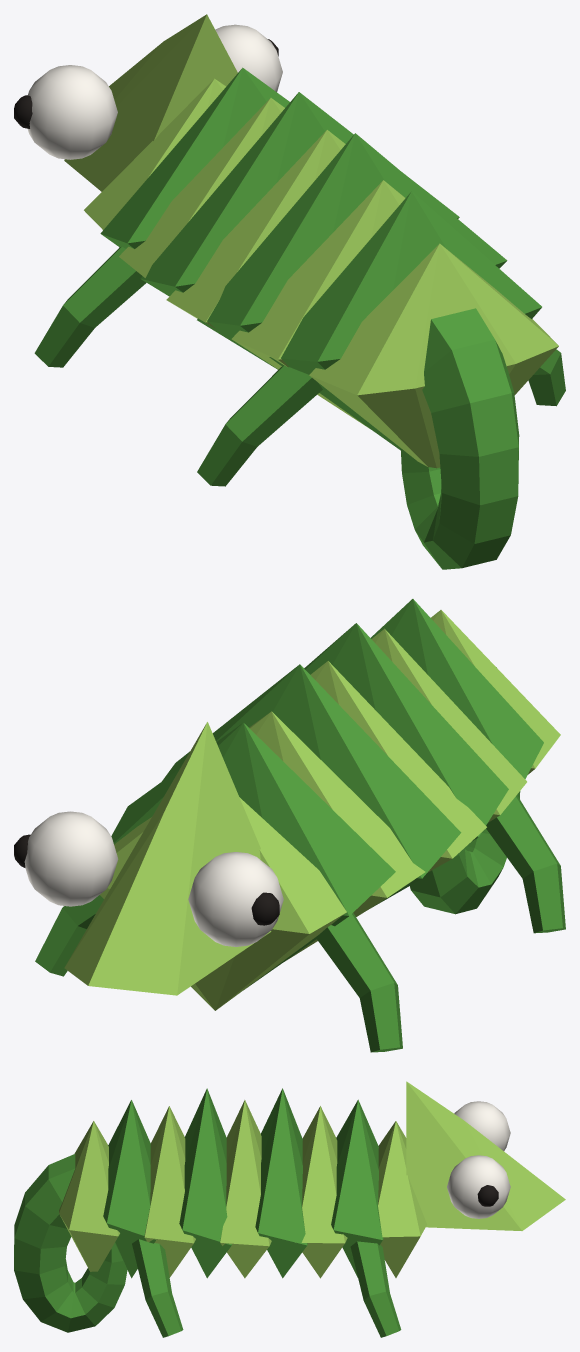
File: perch_chameleon.glb
The picture shows the model from 3 angles, top to bottom: view 1: azimuth 30°, elevation 25°; view 2: azimuth 150°, elevation 25°; view 3: azimuth 270°, elevation 25°; orthographic projection. The views are drawn at different scales.
Visible parts, largest first — view 1: body, tail, head; view 2: body, head, tail; view 3: body, head, tail.
Part boxes in pixels (box(x1,y1,x2,y2)): body: box(34, 67, 565, 486); tail: box(400, 308, 519, 569); head: box(14, 14, 282, 191); body: box(35, 599, 565, 1052); head: box(14, 722, 283, 995); tail: box(410, 667, 520, 914); body: box(59, 1088, 426, 1337); head: box(406, 1081, 565, 1230); tail: box(14, 1154, 127, 1332).
Bounding box in the file's own units: 0.1456 × 0.1403 × 0.2849.
